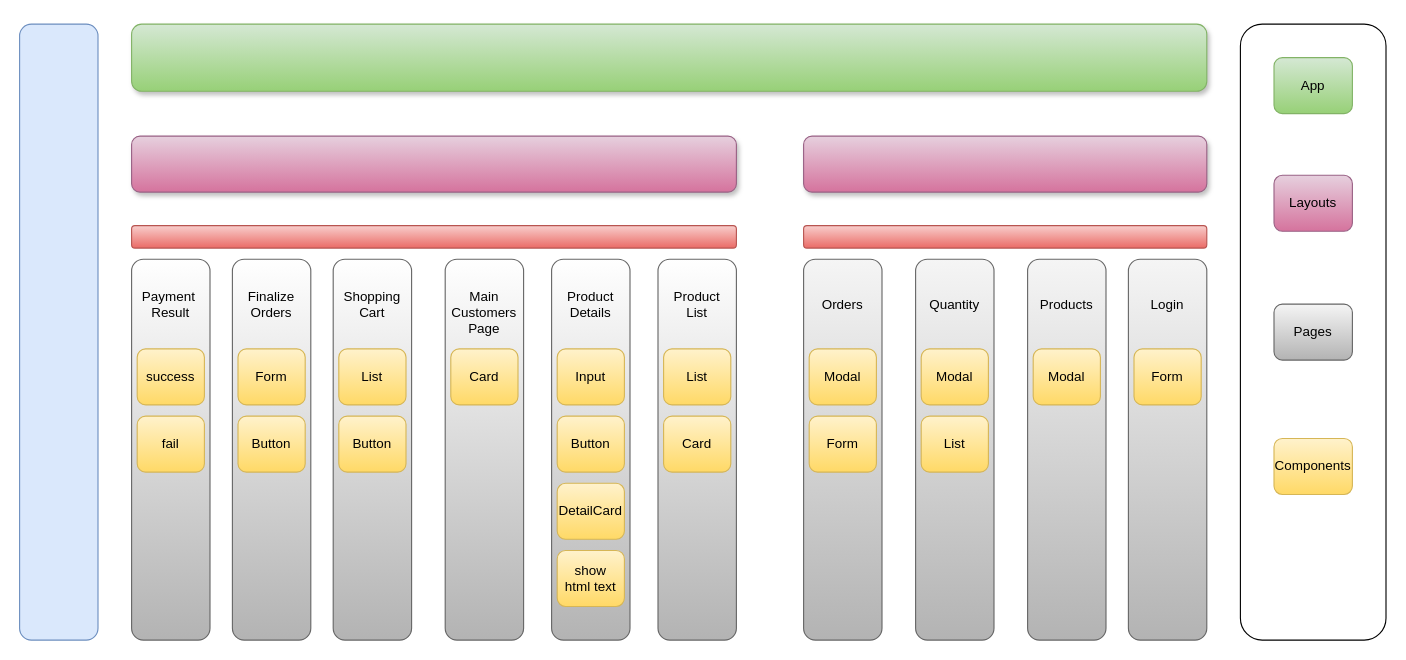
This 1406x660 diagram has some shape labels left out. Here are the shapes that lost their labels. From the top down, the centre of each, then its label:
At point (670, 58): "Store Application".
At point (434, 165): "Main Layout".
At point (1006, 165): "Management Layout".
At point (433, 236): "customer's pages".
At point (1004, 236): "management pages".
At point (58, 331): "payment html".
